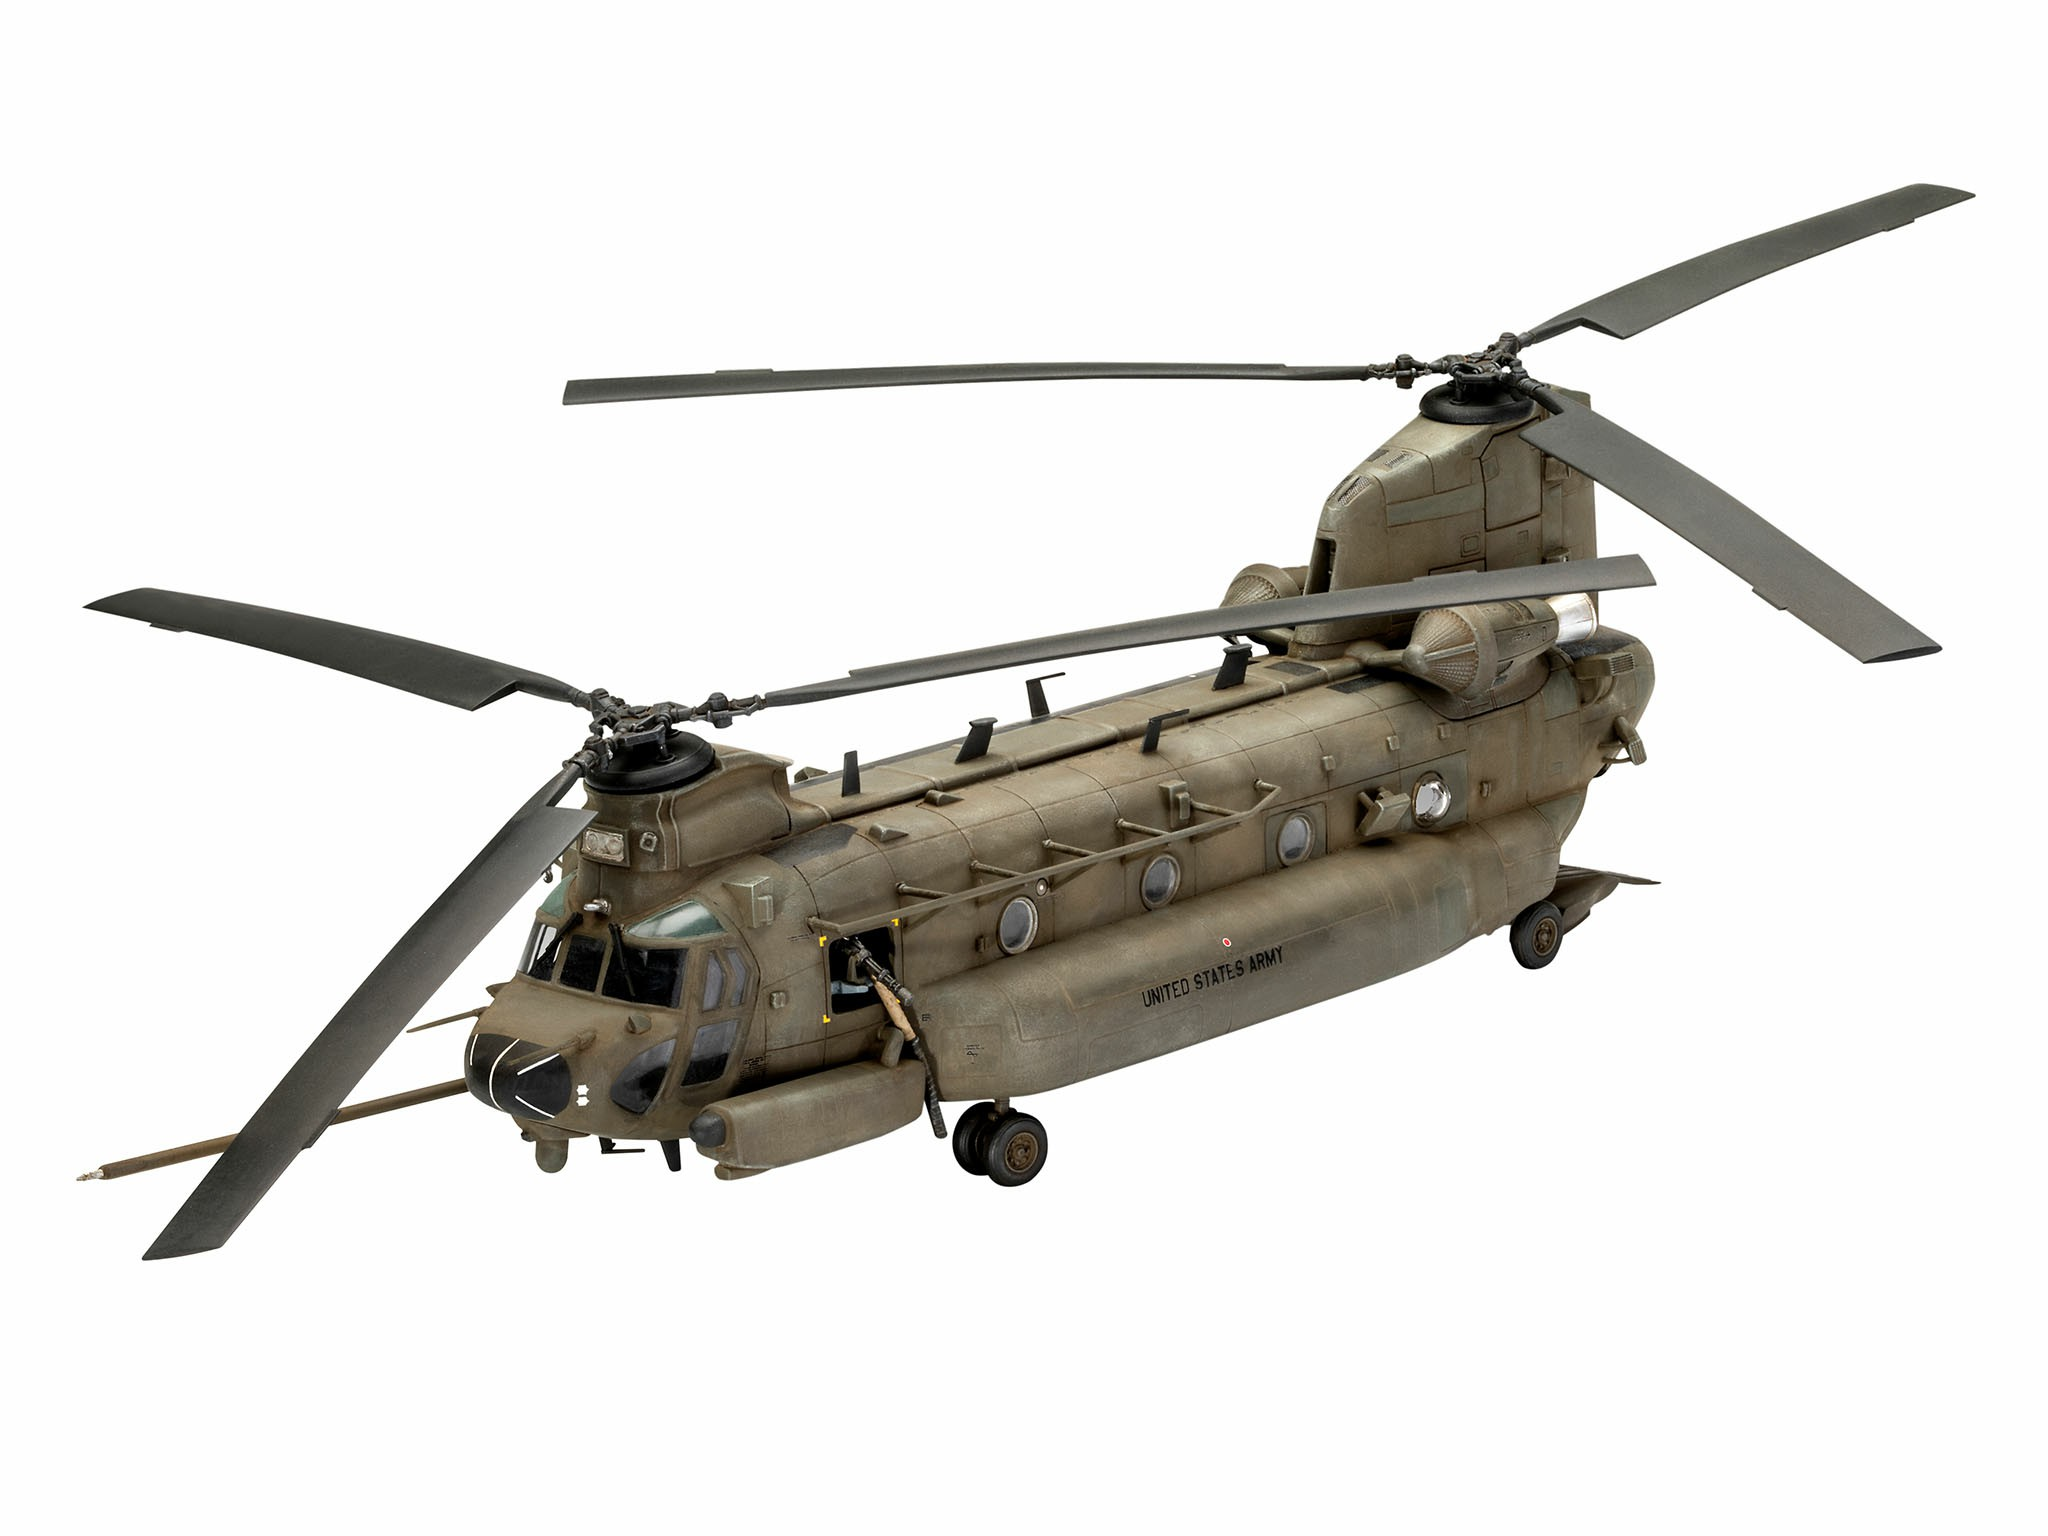chinook: (189, 253, 1809, 1205)
